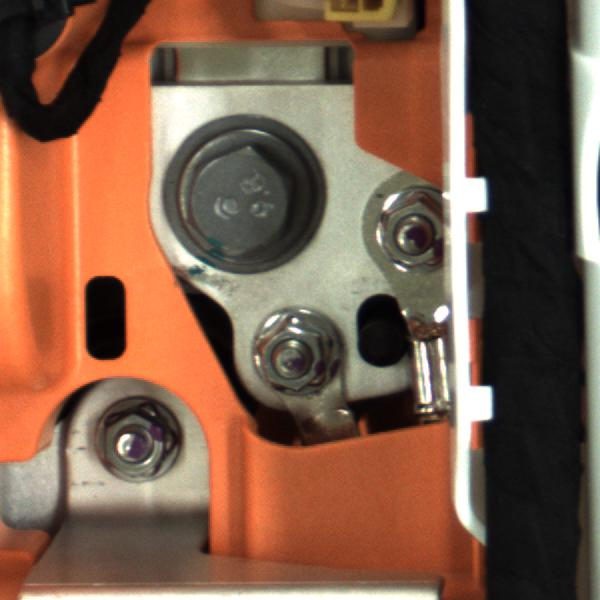nut_b: (154, 119, 323, 271)
screw_s: (242, 309, 341, 397), (366, 180, 451, 274), (89, 405, 176, 491)
